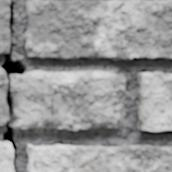brick: (24, 0, 171, 59), (27, 145, 171, 171), (137, 73, 171, 131), (0, 0, 10, 54), (0, 142, 13, 171)
broken_brick: (12, 69, 125, 130), (0, 69, 7, 125)
crack: (0, 2, 27, 169)
